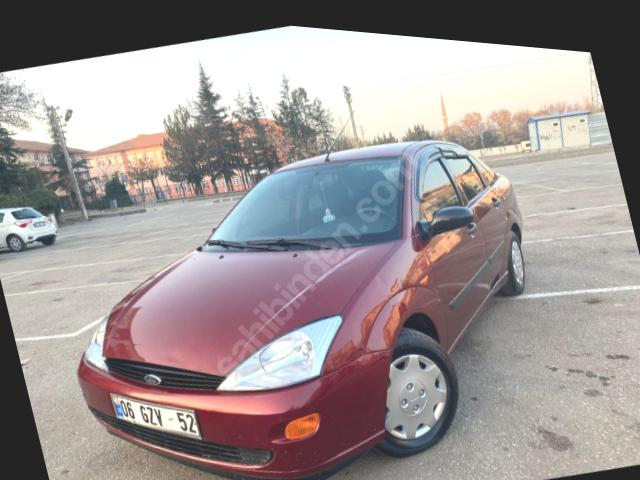plaka: (111, 394, 201, 438)
